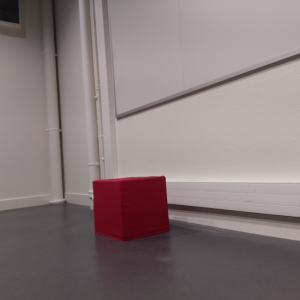medium: (92, 174, 175, 244)
